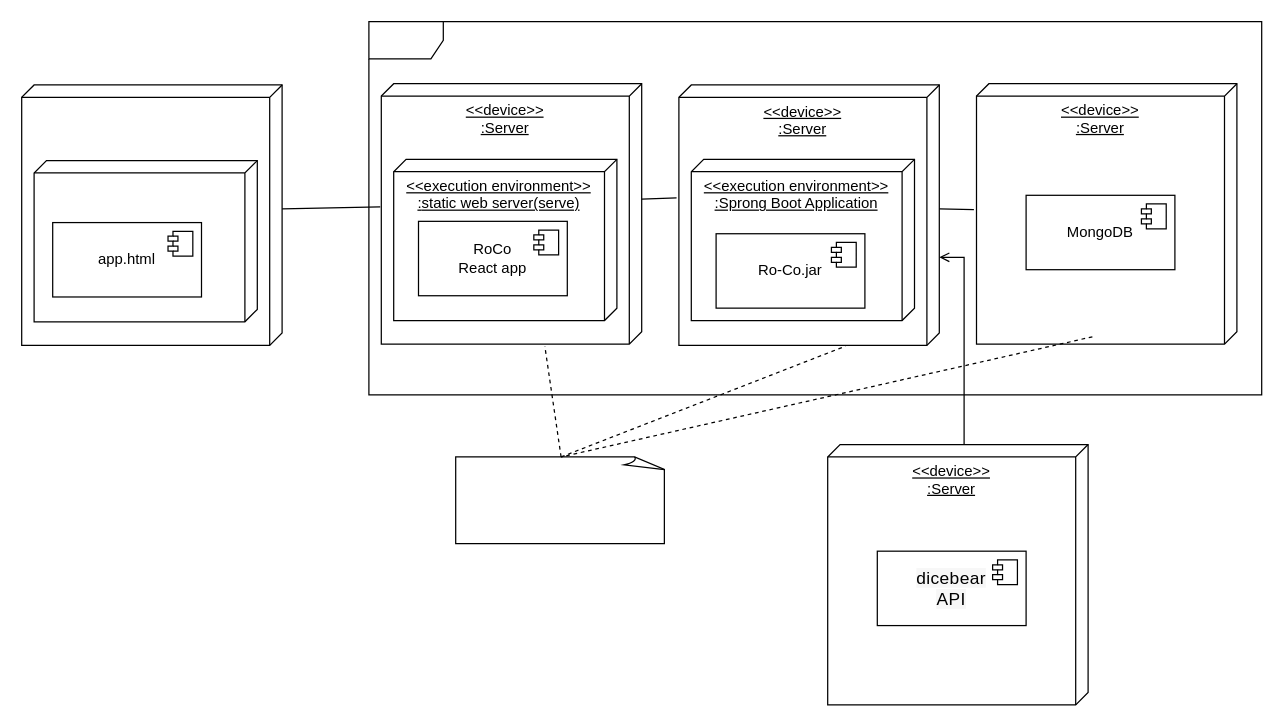
Image size: 1283x727. Some labels were removed from this diagram. The shapes that lost their labels are listed below. From the top down, each one's box as (x1, y1, x2, y2) in pixels, then its label:
(20, 84, 282, 345): <<device>> :Smartphone, Tablet, PC
(368, 20, 1262, 395): Internal
(33, 159, 257, 322): <<execution environment>> :Web-Browser
(454, 456, 666, 544): Might run on various servers for load balancing.
